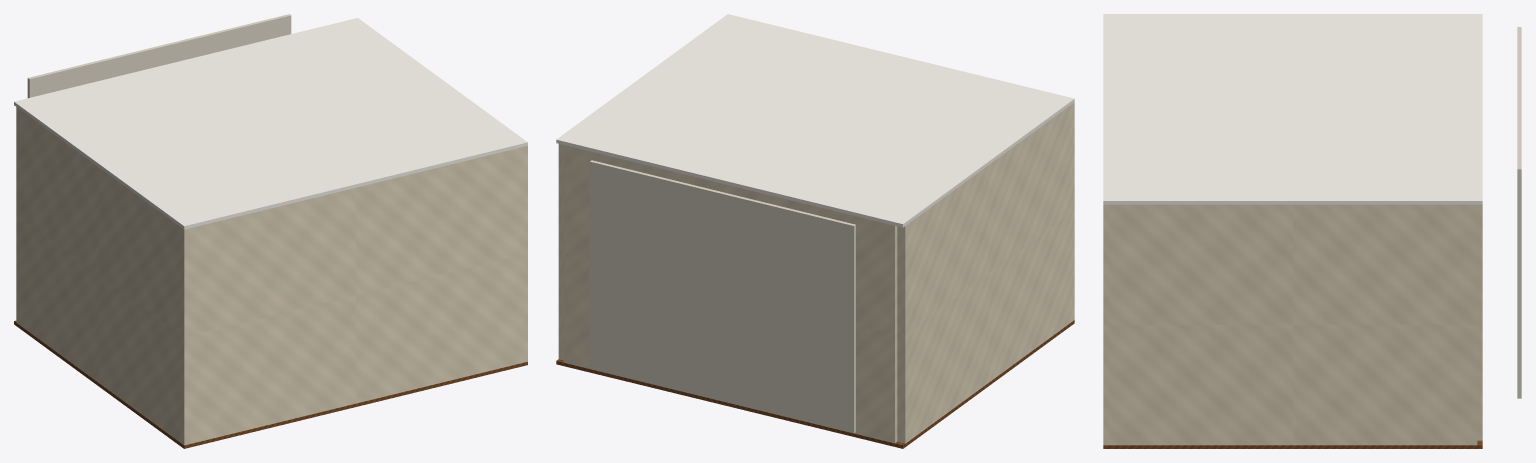
Rendered from keepsake.glb.
3 views of the same model, side by side, from view 1: azimuth 30°, elevation 25°; view 2: azimuth 150°, elevation 25°; view 3: azimuth 270°, elevation 25° (orthographic). The views are drawn at different scales.
Visible parts, largest first — view 1: Room_Wall_F, Room_Ceiling, Room_Wall_L, Outside_View, Room_Floor; view 2: Room_Ceiling, Outside_View, Room_Wall_L, Room_Wall_B_L, Room_Wall_B_R, Room_Floor, Room_Wall_R, Room_Wall_B_Top, Room_Wall_F; view 3: Room_Wall_R, Room_Ceiling, Room_Wall_F, Outside_View, Room_Floor, Room_Wall_B_R.
Part boxes in pixels (<box>): Room_Wall_F: <box>179,146,527,445</box>; Room_Ceiling: <box>14,18,527,229</box>; Room_Wall_L: <box>16,107,181,442</box>; Outside_View: <box>27,14,291,98</box>; Room_Floor: <box>14,320,527,448</box>; Room_Ceiling: <box>556,14,1074,227</box>; Outside_View: <box>589,160,855,433</box>; Room_Wall_L: <box>897,104,1072,443</box>; Room_Wall_B_L: <box>802,203,897,443</box>; Room_Wall_B_R: <box>564,145,676,368</box>; Room_Floor: <box>556,320,1074,448</box>; Room_Wall_R: <box>558,144,564,360</box>; Room_Wall_B_Top: <box>676,172,802,211</box>; Room_Wall_F: <box>1072,102,1074,321</box>; Room_Wall_R: <box>1108,204,1477,445</box>; Room_Ceiling: <box>1103,14,1482,204</box>; Room_Wall_F: <box>1103,204,1113,445</box>; Outside_View: <box>1517,27,1521,398</box>; Room_Floor: <box>1103,440,1482,448</box>; Room_Wall_B_R: <box>1477,204,1482,440</box>.
Size of the model in its own units: 4.2 by 2.64 by 3.97.
18 materials, 5 textured.
